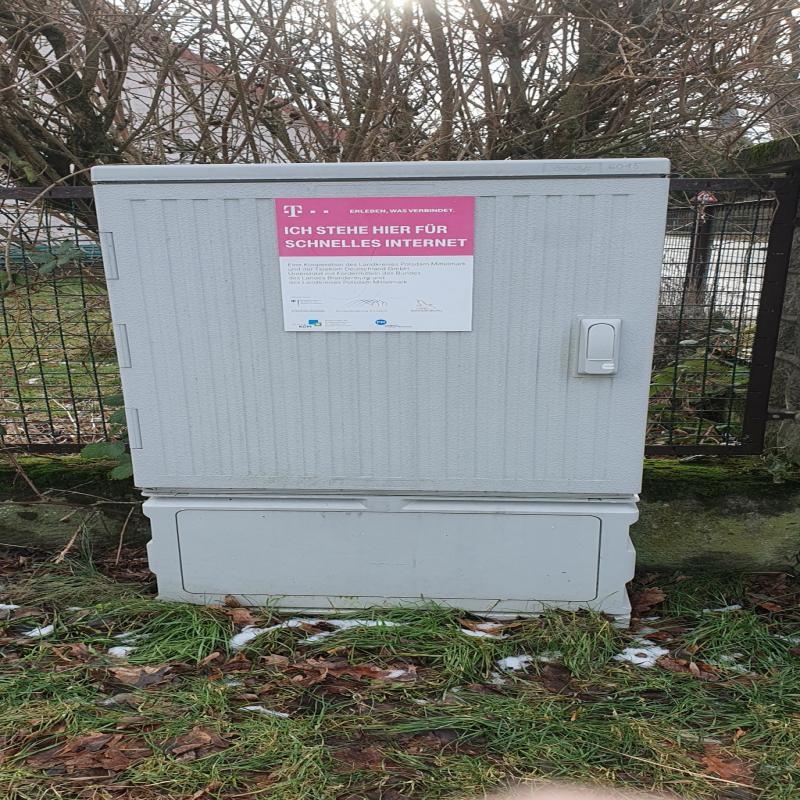NT-Gehause: (99, 160, 656, 604)
Steaker: (274, 199, 472, 330)
